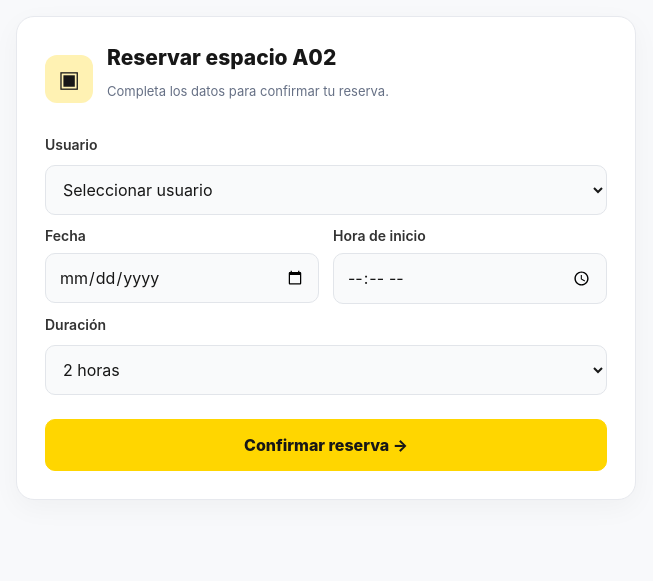
Test case: BookingForm › shows an error for overlapping bookings
Select "Usuario Prueba — prueba@example.com" in the dropdown labelled "Usuario" at coordinates (326, 190), box [45,165,607,215]
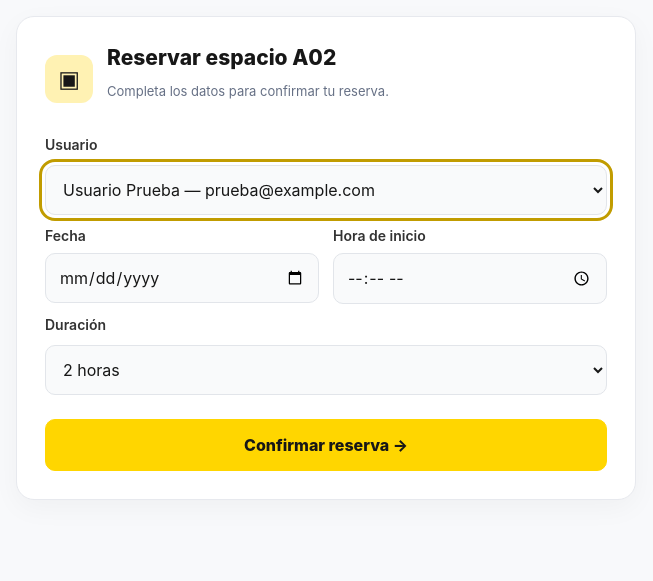
Type "2030-10-20" into the date field labelled "Fecha".
click(182, 278); type("2030-10-20")  # box [45,253,319,303]
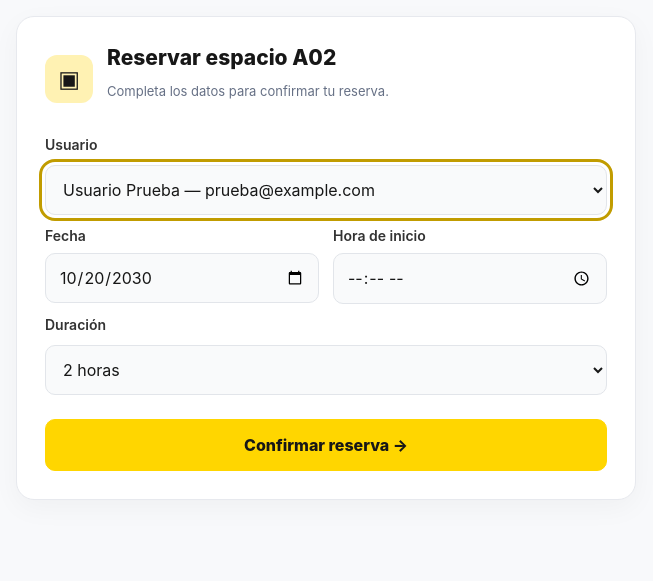
Type "10:00" into the time field labelled "Hora de inicio".
click(470, 278); type("10:00")  # box [333,253,607,304]
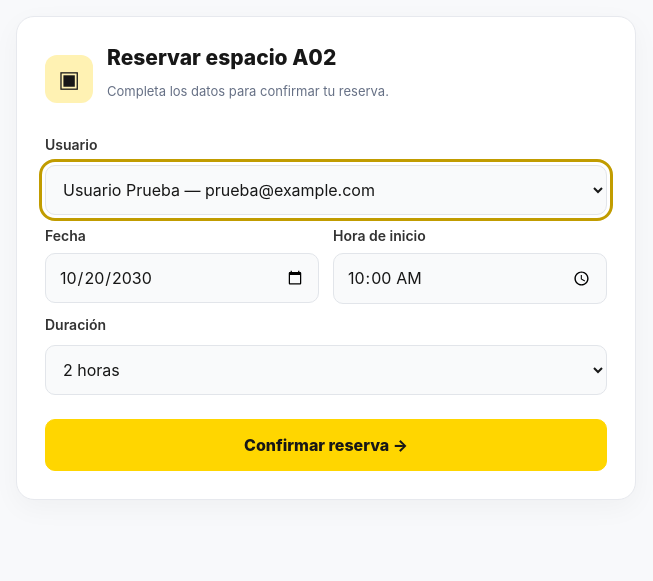
Click the button "Confirmar reserva →".
click(326, 445)  # box [45,419,607,471]
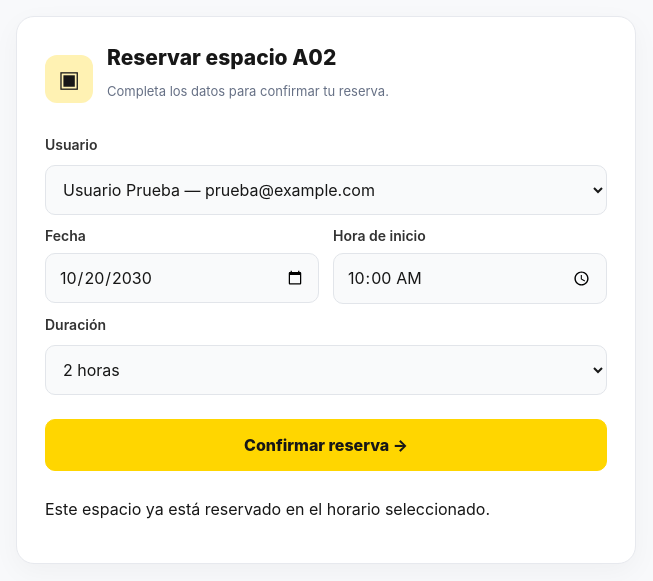
Result: the message shows "ya está reservado" at [45,499,490,519]
